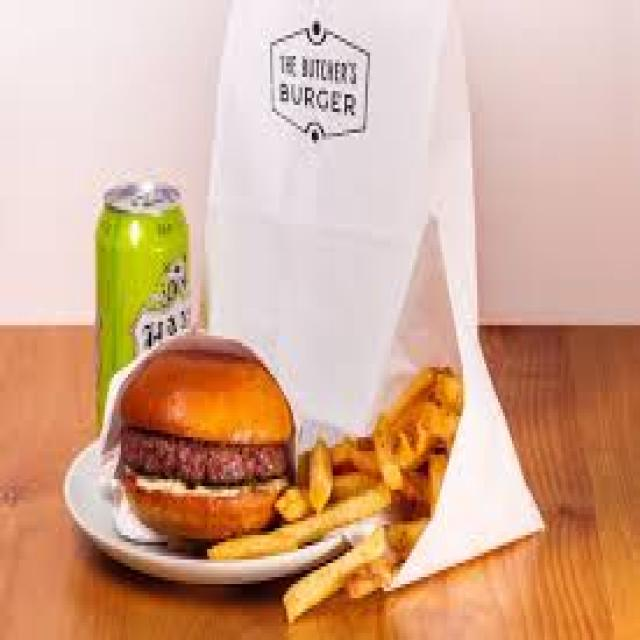Burger: (126, 341, 280, 532)
Fries: (328, 400, 577, 578)
